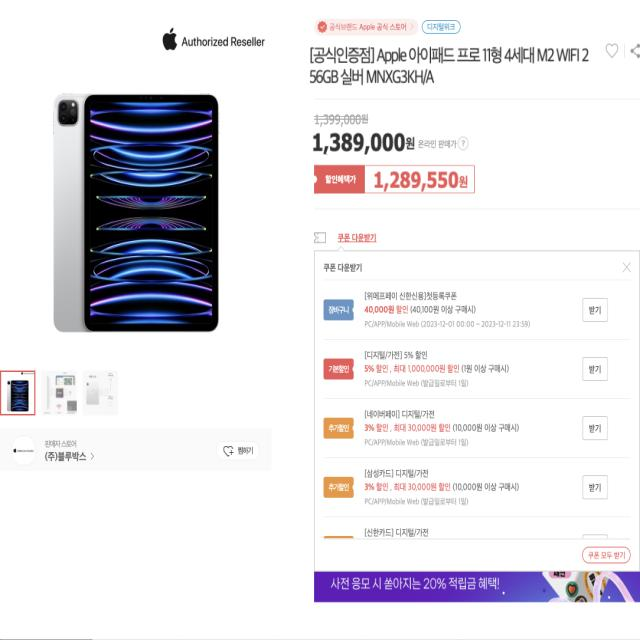product_discount_price: (368, 167, 469, 192)
product_name: (310, 42, 592, 90)
product_original_price: (313, 129, 417, 154)
